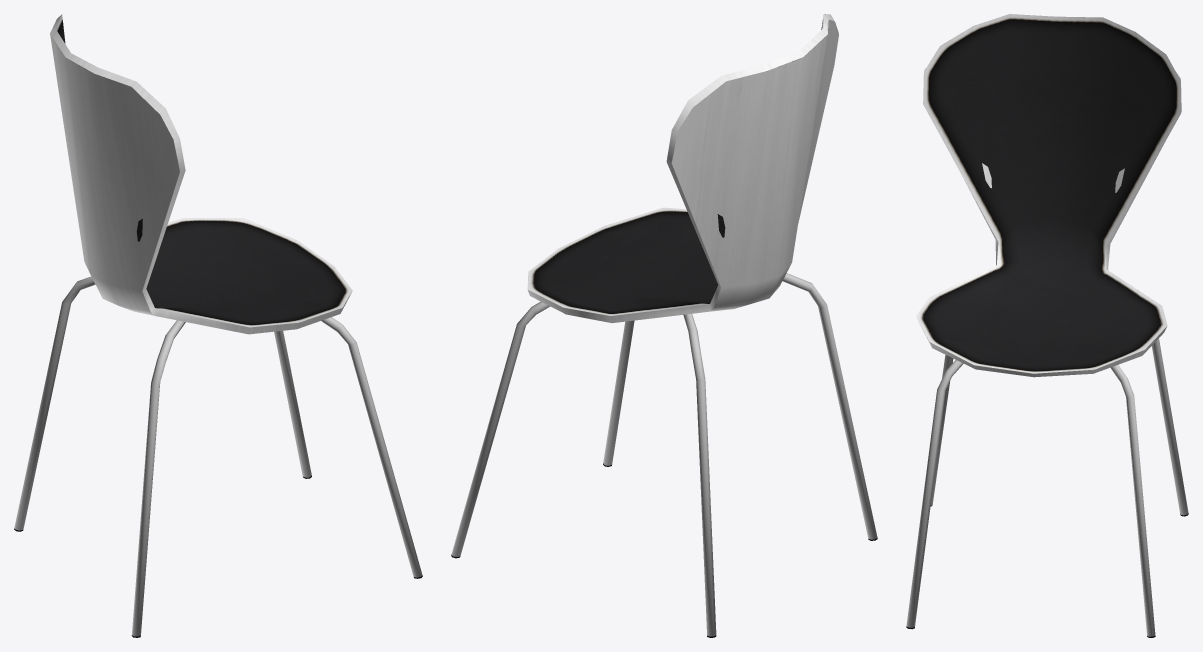
File: chair.FBX
3 renders of one model, left to right at view 1: azimuth 30°, elevation 25°; view 2: azimuth 150°, elevation 25°; view 3: azimuth 270°, elevation 25°, orthographic. The views are drawn at different scales.
Parts seen in each view (by area): view 1: confernce_chair001; view 2: confernce_chair001; view 3: confernce_chair001.
Boxes of the visible parts, <box> form: confernce_chair001: <box>14,14,422,637</box>; confernce_chair001: <box>451,14,877,637</box>; confernce_chair001: <box>906,14,1188,637</box>.
Bounding box in the file's own units: 0.5216 × 0.8901 × 0.461.
